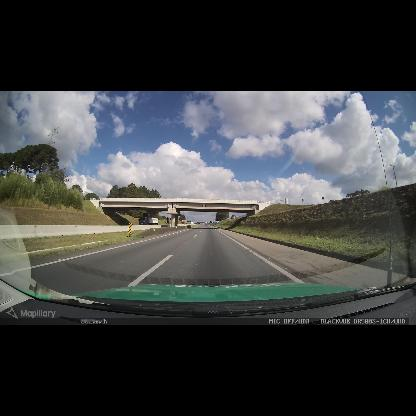O-MP: (128, 223, 132, 234)
R-15: (202, 204, 206, 208)
